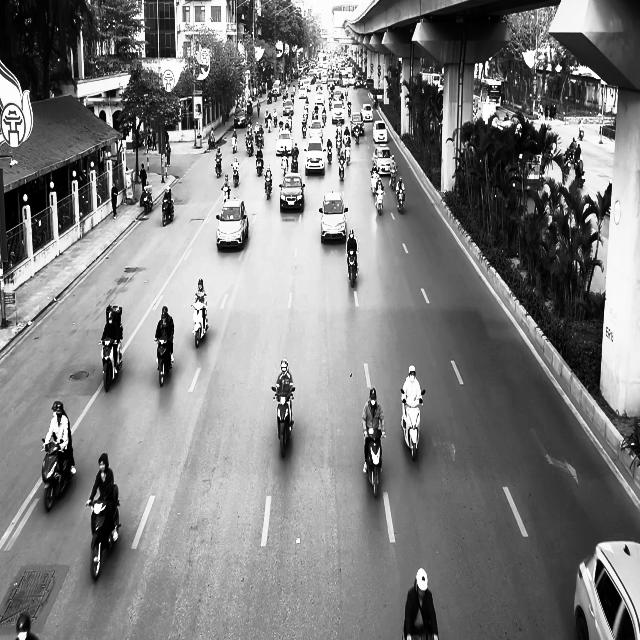bus: (480, 78, 502, 106)
car: (573, 540, 640, 639), (216, 197, 248, 250), (318, 192, 348, 242), (279, 173, 305, 212), (303, 136, 325, 176), (372, 146, 393, 174), (275, 129, 293, 156), (372, 120, 388, 143), (234, 108, 247, 127)
motorbike: (86, 495, 121, 580), (41, 436, 75, 512), (400, 388, 425, 460), (271, 384, 295, 458), (363, 428, 385, 498), (99, 335, 122, 392), (155, 336, 173, 386), (190, 302, 208, 348), (346, 246, 359, 287), (162, 198, 174, 226), (142, 186, 153, 213), (374, 188, 385, 215), (396, 190, 405, 214), (231, 163, 240, 187), (264, 176, 272, 200), (256, 153, 264, 176), (215, 157, 222, 178), (222, 185, 230, 203)
